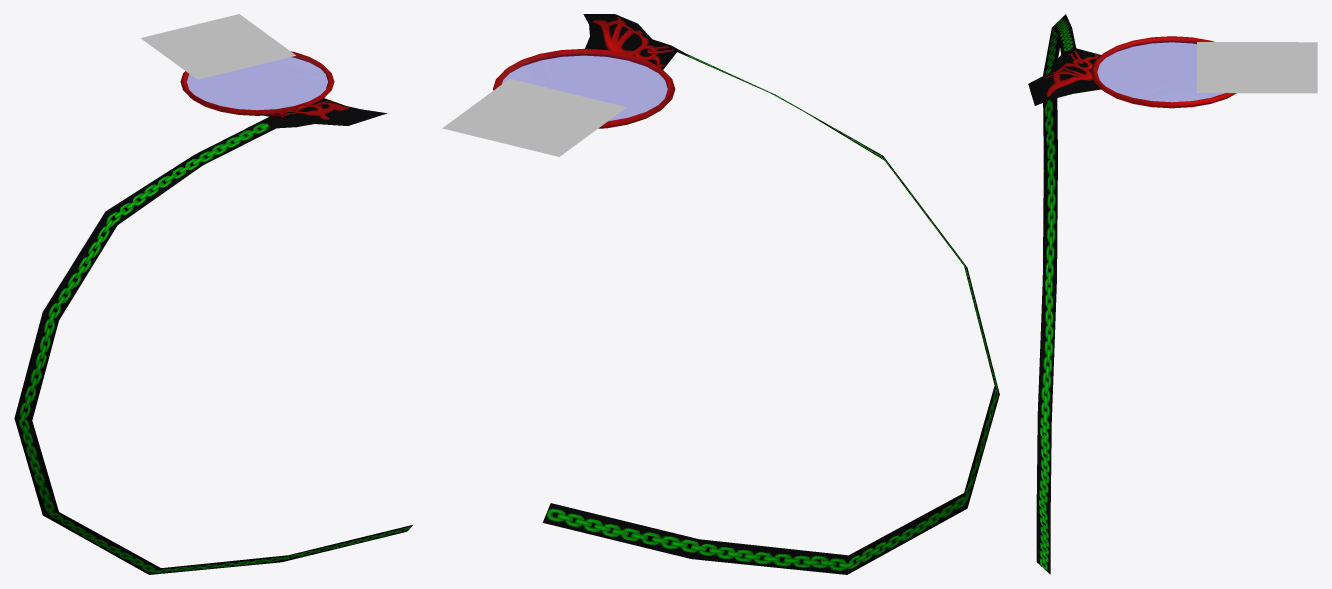
3 renders of one model, left to right at view 1: azimuth 30°, elevation 25°; view 2: azimuth 150°, elevation 25°; view 3: azimuth 270°, elevation 25°, orthographic. The views are drawn at different scales.
Parts seen in each view (by area): view 1: object0005_C1238:0, object0026_Plane, object0012_C1238:1; view 2: object0005_C1238:0, object0026_Plane, object0012_C1238:1; view 3: object0005_C1238:0, object0026_Plane, object0012_C1238:1.
Part boxes in pixels (x1,y1,x2,y2): object0005_C1238:0: (14,51,412,574); object0026_Plane: (140,14,295,79); object0012_C1238:1: (187,57,327,109); object0005_C1238:0: (493,14,999,574); object0026_Plane: (442,78,626,156); object0012_C1238:1: (502,54,667,120); object0005_C1238:0: (1028,14,1236,574); object0026_Plane: (1197,42,1317,93); object0012_C1238:1: (1097,41,1223,101).
Bounding box in the file's own units: 0.2154 × 0.2334 × 0.1313.
